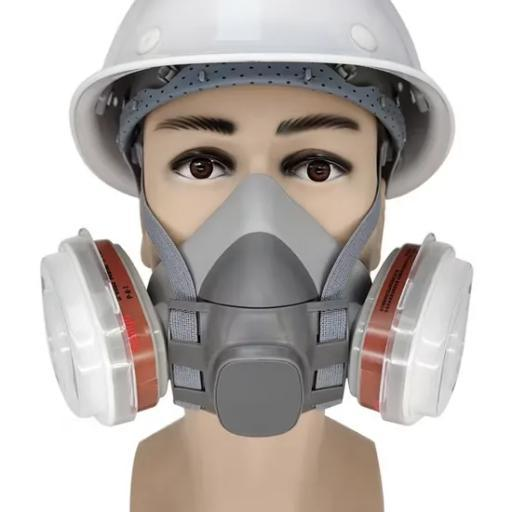mask: (26, 188, 512, 453)
